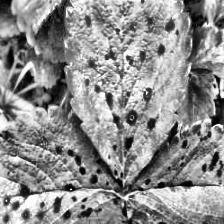Leaf Spot: (62, 0, 194, 194), (0, 104, 136, 224), (124, 120, 224, 224), (15, 0, 70, 36)
